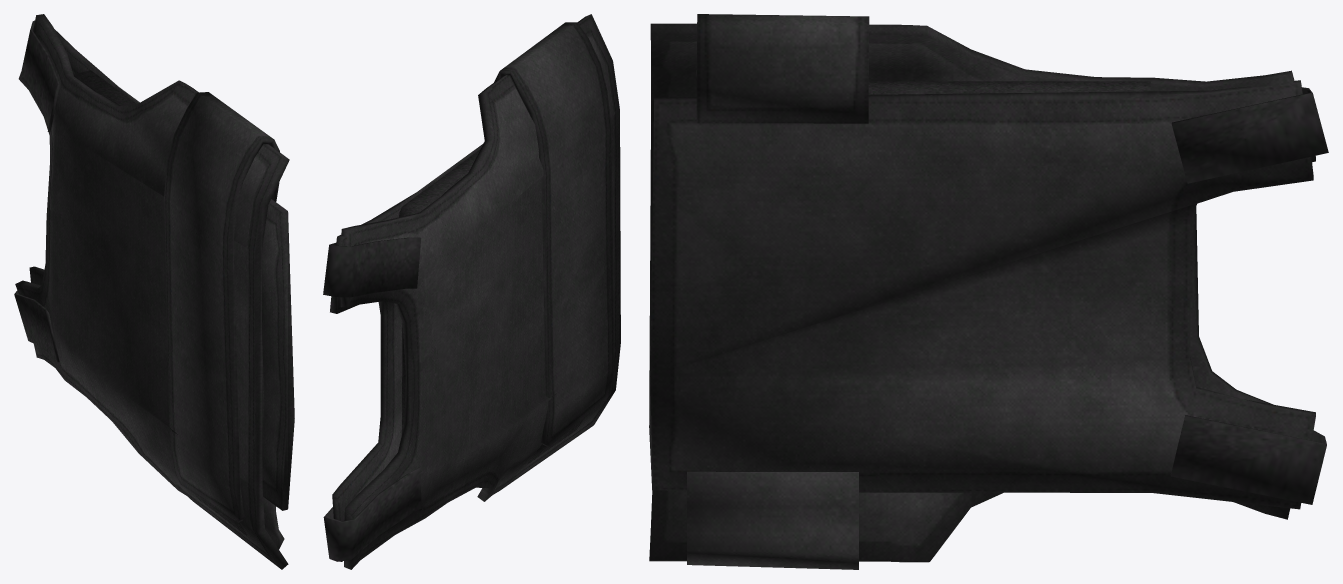
File: Light Armor Pickup.fbx
3 views of the same model, side by side, from view 1: azimuth 30°, elevation 25°; view 2: azimuth 150°, elevation 25°; view 3: azimuth 270°, elevation 25° (orthographic). The views are drawn at different scales.
Parts seen in each view (by area): view 1: LightArmor_LOD0; view 2: LightArmor_LOD0; view 3: LightArmor_LOD0.
Part boxes in pixels (box(x1,y1,x2,y2)): LightArmor_LOD0: box(14, 14, 294, 569); LightArmor_LOD0: box(323, 14, 620, 569); LightArmor_LOD0: box(649, 14, 1328, 569).
Size of what is drawn, in the model's own units: 0.1205 by 0.8882 by 0.9952.
1 material, 1 textured.
